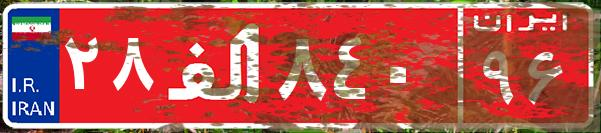0: (385, 28, 445, 110)
2: (57, 26, 110, 107)
4: (330, 28, 385, 110)
6: (525, 38, 570, 115)
8: (273, 28, 330, 110), (110, 28, 158, 105)
9: (475, 38, 525, 113)
الف: (158, 15, 273, 115)
